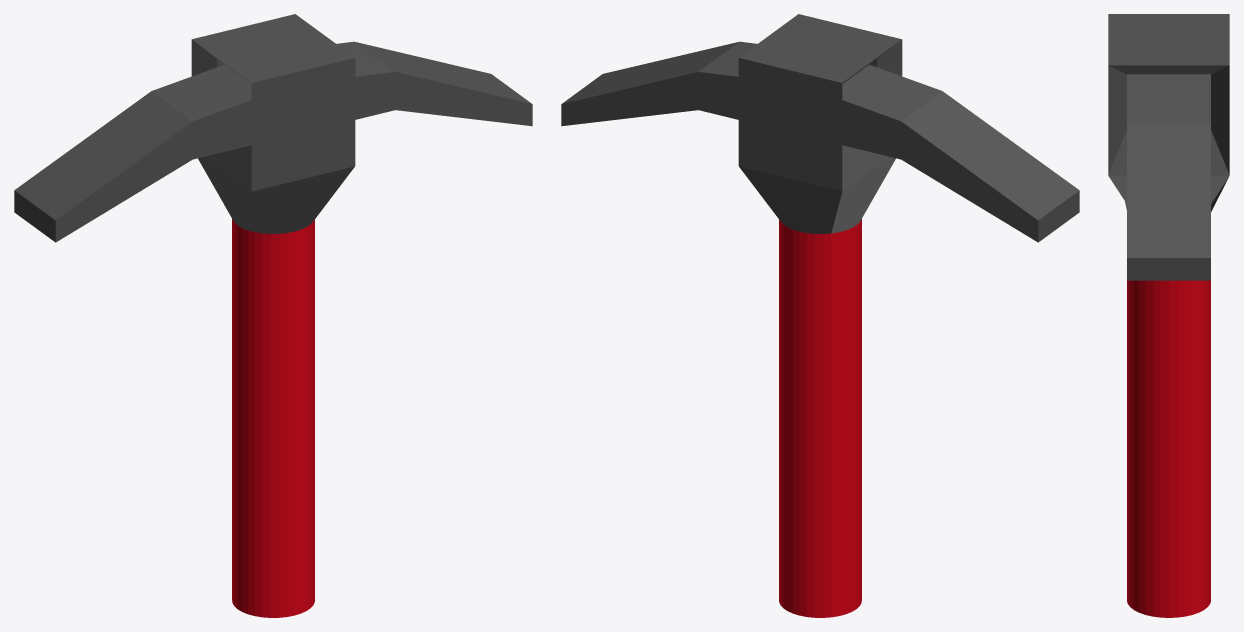
File: pickaxe.glb
3 renders of one model, left to right at view 1: azimuth 30°, elevation 25°; view 2: azimuth 150°, elevation 25°; view 3: azimuth 270°, elevation 25°, orthographic.
Visible parts, largest first — view 1: Cube; view 2: Cube; view 3: Cube.
Part boxes in pixels (bbox=[...]): Cube: bbox=[14, 14, 532, 617]; Cube: bbox=[561, 14, 1079, 617]; Cube: bbox=[1108, 14, 1229, 617].
Size of the model in its own units: 4.99 by 5.52 by 1.09.
